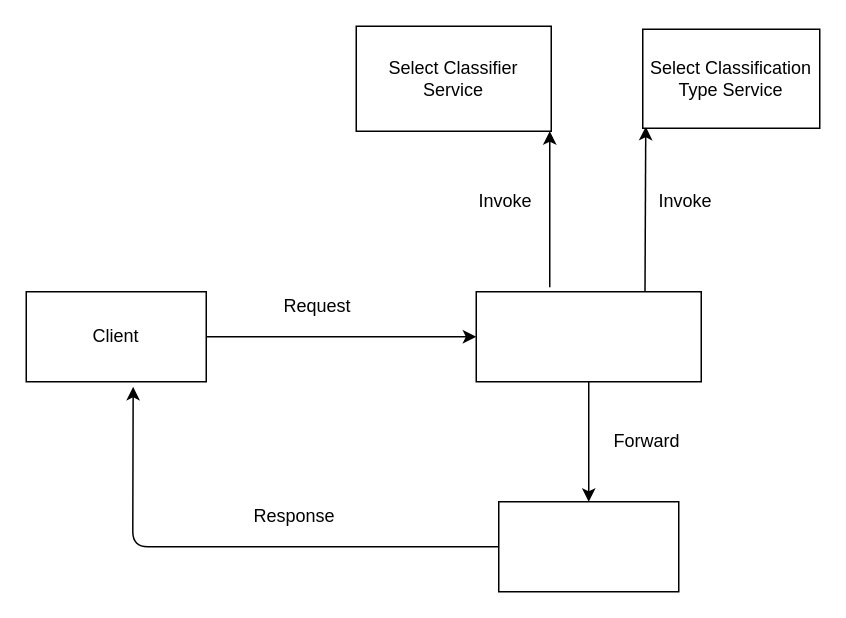
Image size: 846x618. Some labels were removed from this diagram. The centre of each missing label's shape, as x and y in pixels:
"Main Service" belongs at pixel 588 336.
"Output Service" belongs at pixel 588 546.
